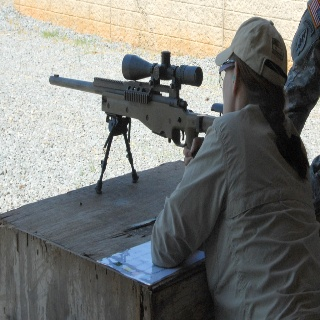rifle: (48, 49, 224, 195)
